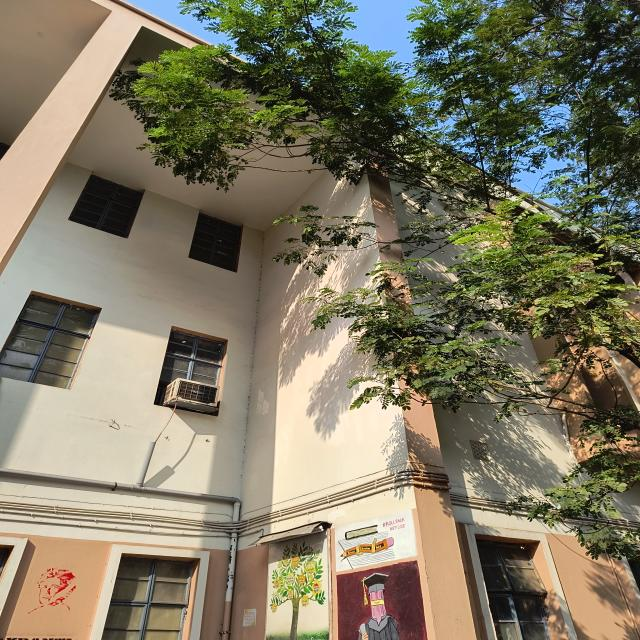Graffiti: (337, 560, 428, 640), (265, 531, 330, 640), (335, 508, 420, 571), (25, 555, 83, 623)
